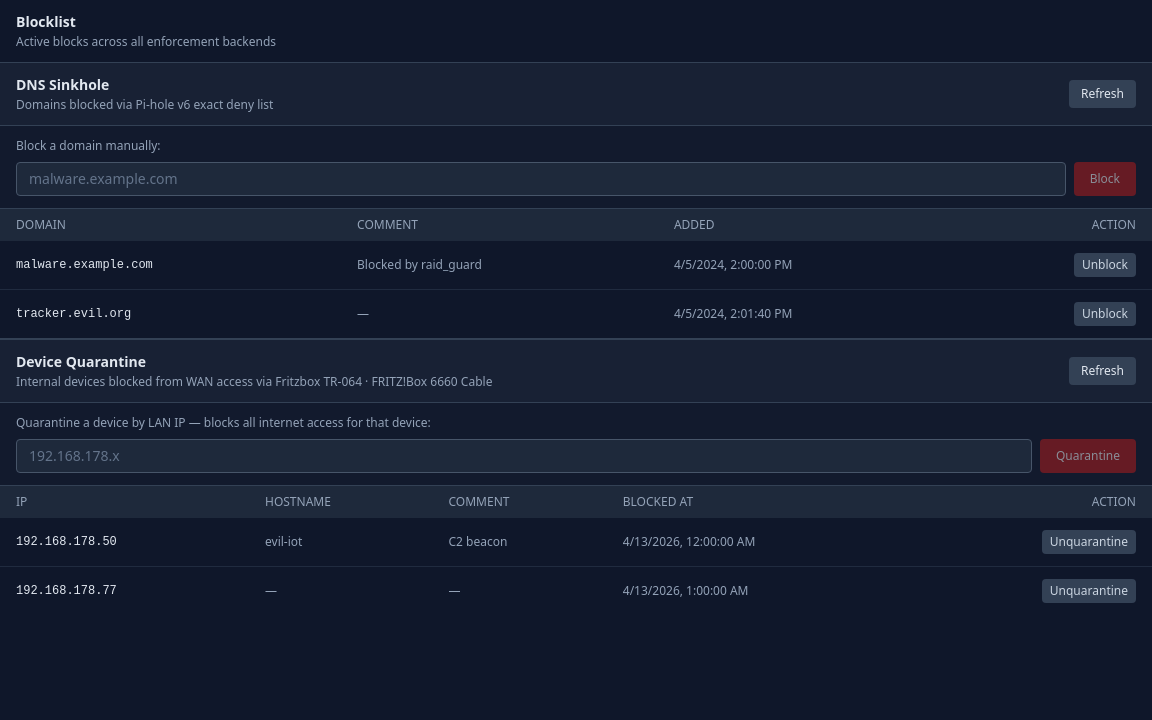
Scenario: BlocklistPage — Device Quarantine — unquarantine › removes device from list after unquarantine
Expected: the text "192.168.178.50" is shown, [0, 518, 249, 566]
What coordinates should you click on to do the following:
click the button with aria-label "unquarantine 192.168.178.50"
I would click on:
 (1089, 542)
Its box is [1042, 530, 1136, 554].
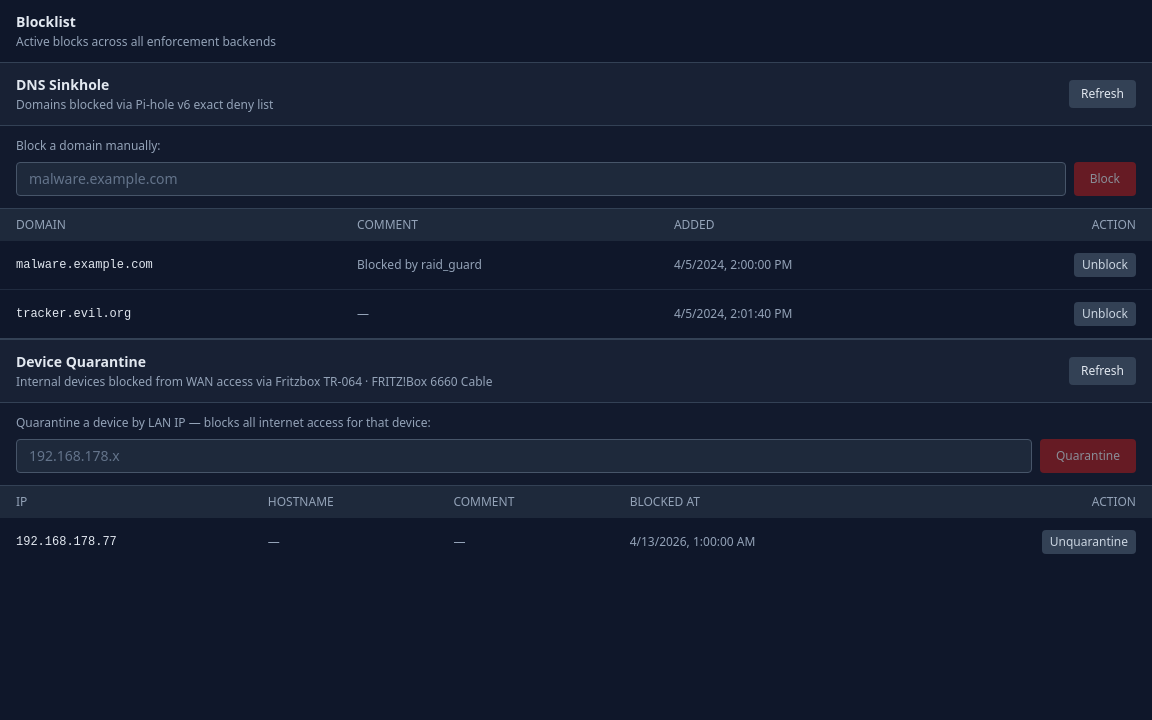
Expected: the text "192.168.178.50" is gone
